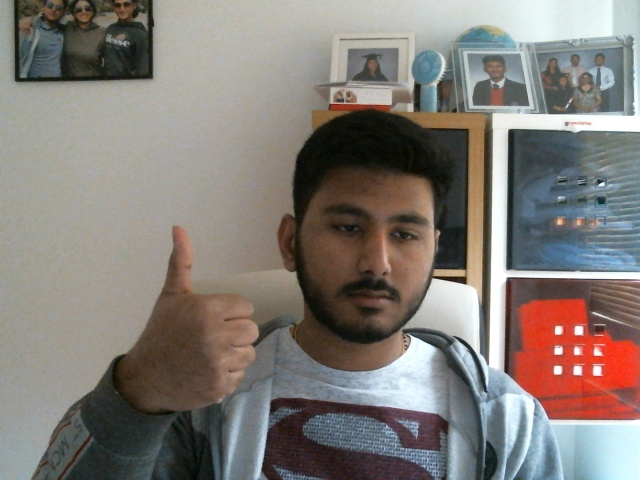good: (147, 225, 259, 405)
